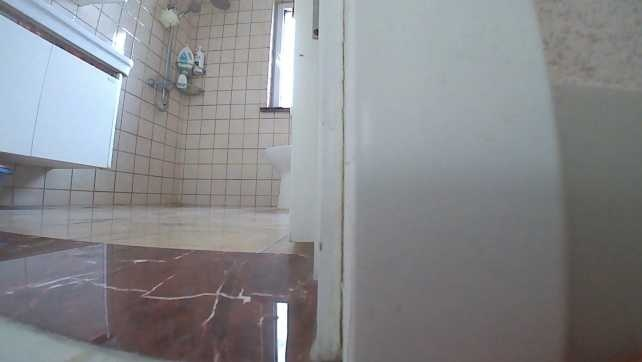door_sill: (0, 231, 313, 361)
toilet: (263, 143, 290, 209)
